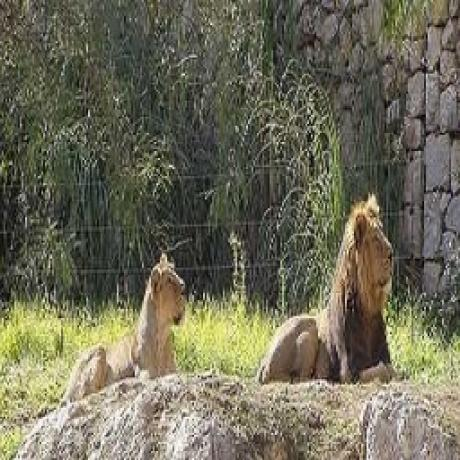Lion: (260, 198, 401, 388), (52, 248, 194, 400)
